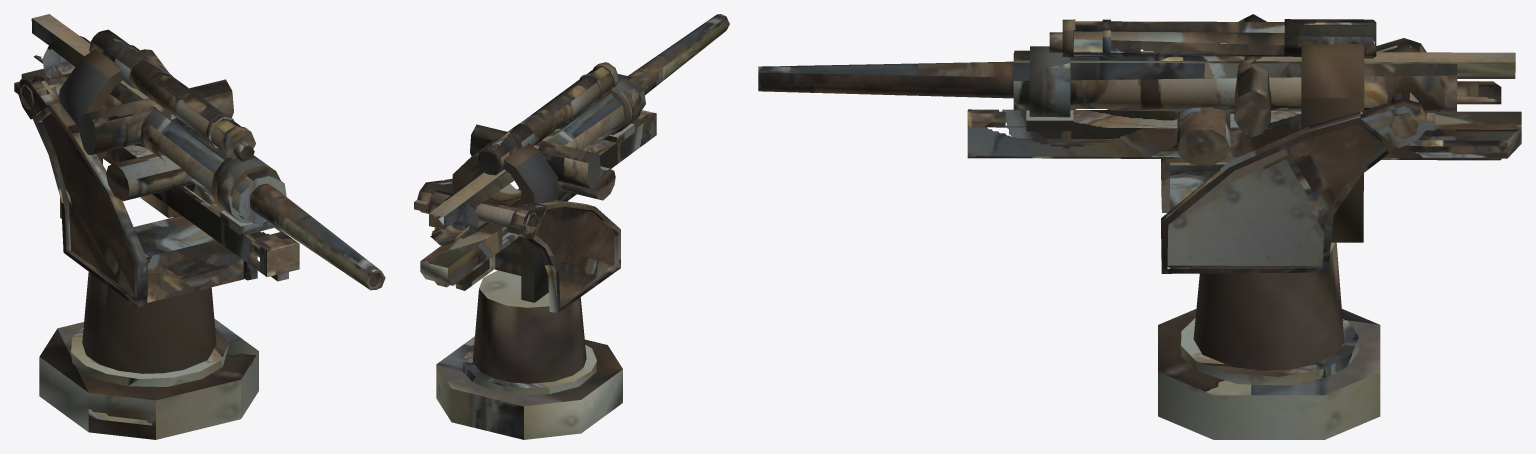
The model's file is flaksmall.dae.
3 renders of one model, left to right at view 1: azimuth 30°, elevation 25°; view 2: azimuth 150°, elevation 25°; view 3: azimuth 270°, elevation 25°, orthographic. The views are drawn at different scales.
Visible parts, largest first — view 1: gun, base, turret; view 2: gun, base, turret; view 3: gun, base, turret.
Part boxes in pixels (<box>): gun: <box>14,14,385,290</box>; base: <box>39,272,258,439</box>; turret: <box>33,102,257,307</box>; gun: <box>414,14,729,302</box>; base: <box>436,270,622,439</box>; turret: <box>444,178,620,312</box>; gun: <box>758,14,1521,242</box>; base: <box>1158,242,1380,439</box>; turret: <box>1161,109,1396,273</box>.
Bounding box in the file's own units: 0.9092 × 3.12 × 1.68.
1 material, 1 textured.
